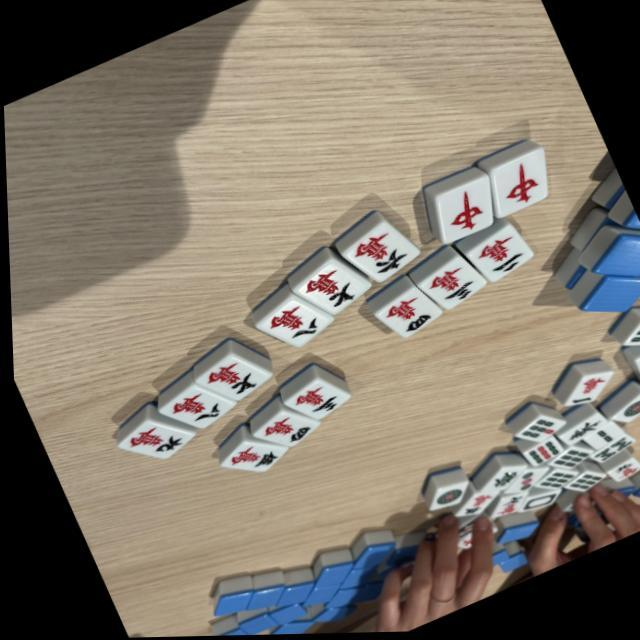hdr: (475, 149, 560, 221), (421, 177, 502, 247)
sc2: (456, 222, 534, 290)
sc3: (408, 252, 488, 320), (276, 369, 351, 428)
sc4: (365, 281, 443, 347), (243, 398, 320, 458)
sc5: (208, 427, 287, 487)
sc6: (333, 212, 422, 294)
sc7: (284, 250, 370, 325), (186, 341, 273, 413)
sc8: (245, 285, 334, 361), (150, 370, 237, 441)
sc9: (106, 403, 194, 474)
